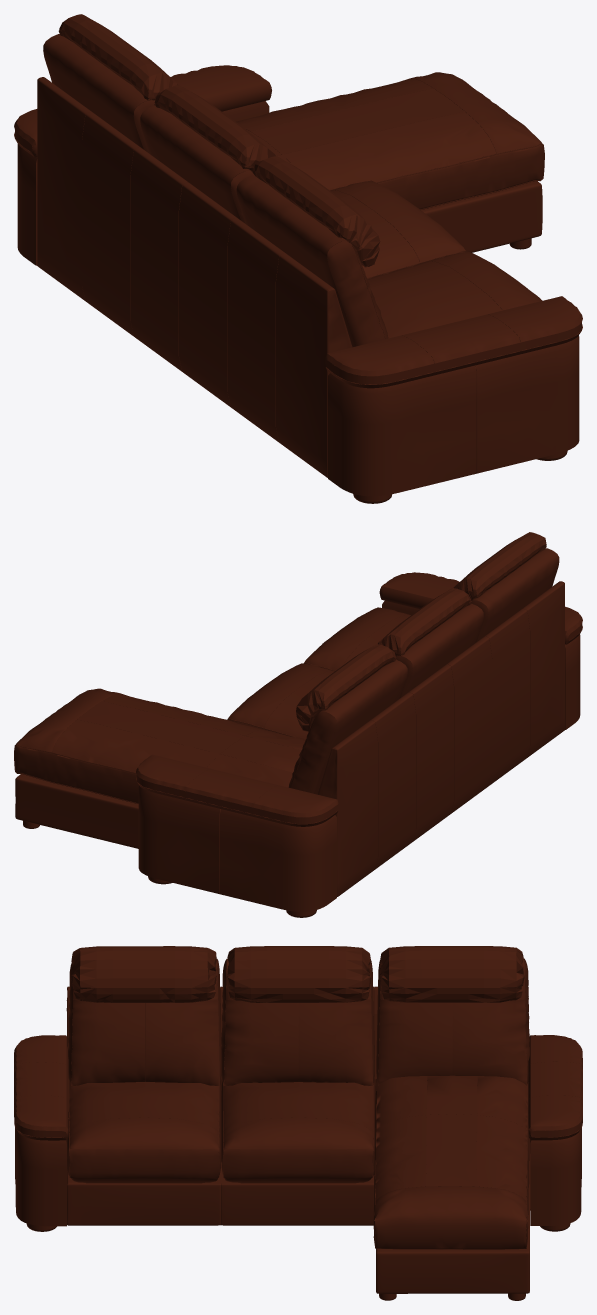
The model's file is Lidhult_sofa_HI.fbx.
3 renders of one model, top to bottom at view 1: azimuth 30°, elevation 25°; view 2: azimuth 150°, elevation 25°; view 3: azimuth 270°, elevation 25°, orthographic. The views are drawn at different scales.
Visible parts, largest first — view 1: Box160, Box152, Box161, Group030, Box156, Box153, Box159, Box150, Box157, Box154, Box155, Box158 (+1 smaller); view 2: Box160, Box161, Box151, Group030, Box150, Box159, Box153, Box157, Box155, Box156, Box158, Box154 (+1 smaller); view 3: Group030, Box161, Box159, Box156, Box157, Box153, Box150, Box154, Box158, Box155, Box152, Box151 (+1 smaller).
Boxes of the visible parts, bbox=[...] form: Box160: bbox=[37, 77, 352, 477]; Box152: bbox=[328, 335, 579, 496]; Box161: bbox=[236, 72, 544, 209]; Group030: bbox=[14, 65, 582, 388]; Box156: bbox=[367, 251, 542, 338]; Box153: bbox=[236, 175, 388, 347]; Box159: bbox=[330, 180, 466, 279]; Box150: bbox=[43, 34, 154, 152]; Box157: bbox=[140, 105, 254, 223]; Box154: bbox=[252, 156, 380, 267]; Box155: bbox=[58, 14, 177, 100]; Box158: bbox=[154, 85, 275, 171]; Box160: bbox=[318, 581, 564, 896]; Box161: bbox=[14, 688, 305, 803]; Box151: bbox=[138, 785, 336, 911]; Group030: bbox=[15, 572, 582, 848]; Box150: bbox=[288, 660, 407, 794]; Box159: bbox=[227, 663, 334, 739]; Box153: bbox=[471, 548, 559, 641]; Box157: bbox=[396, 603, 483, 697]; Box155: bbox=[296, 644, 396, 731]; Box156: bbox=[303, 607, 410, 670]; Box158: bbox=[378, 588, 471, 655]; Box154: bbox=[453, 532, 546, 600]; Group030: bbox=[14, 1035, 582, 1293]; Box161: bbox=[373, 1075, 529, 1249]; Box159: bbox=[221, 1081, 375, 1183]; Box156: bbox=[67, 1079, 221, 1183]; Box157: bbox=[221, 958, 374, 1085]; Box153: bbox=[68, 959, 221, 1085]; Box150: bbox=[376, 958, 529, 1085]; Box154: bbox=[71, 946, 216, 1002]; Box158: bbox=[226, 946, 371, 1002]; Box155: bbox=[380, 946, 524, 1002]; Box152: bbox=[15, 1127, 66, 1226]; Box151: bbox=[530, 1127, 581, 1225].
Bounding box in the file's own units: 1752 × 1066 × 2602.
